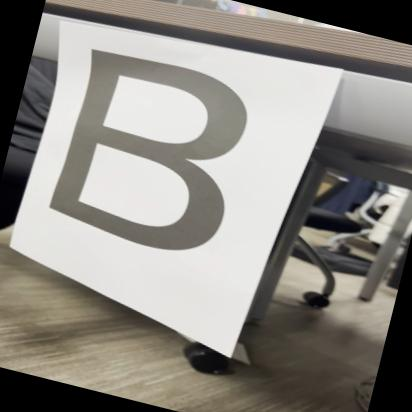seat: (33, 36, 276, 280)
